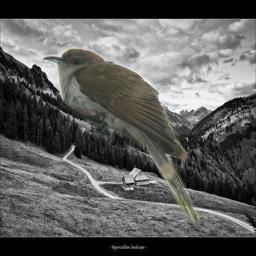Cuckoo: (43, 48, 200, 226)
